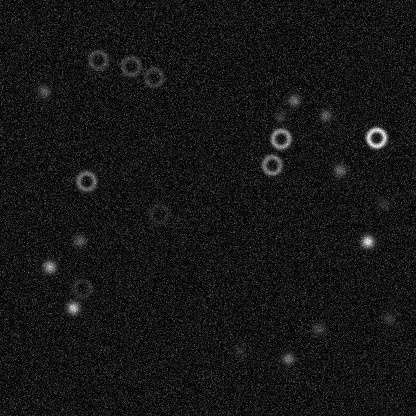Ring: (86, 47, 110, 71), (141, 65, 165, 89), (70, 276, 94, 300), (118, 54, 142, 78), (146, 201, 170, 225), (268, 126, 292, 150), (364, 125, 388, 149), (259, 152, 283, 176), (74, 169, 98, 193)
Spot: (286, 92, 302, 108), (71, 232, 87, 248), (36, 83, 52, 99), (375, 196, 391, 212), (272, 108, 288, 124), (310, 321, 326, 337), (359, 233, 375, 249), (279, 350, 295, 366), (232, 342, 248, 358), (41, 258, 57, 274), (65, 299, 81, 315), (331, 162, 347, 178), (381, 310, 397, 326), (317, 107, 333, 123)
